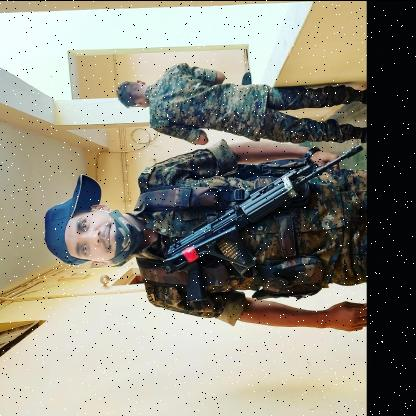rifle: (159, 141, 365, 305)
